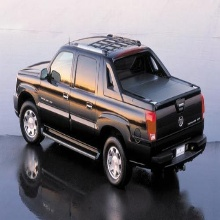no damage: (13, 35, 207, 186)
